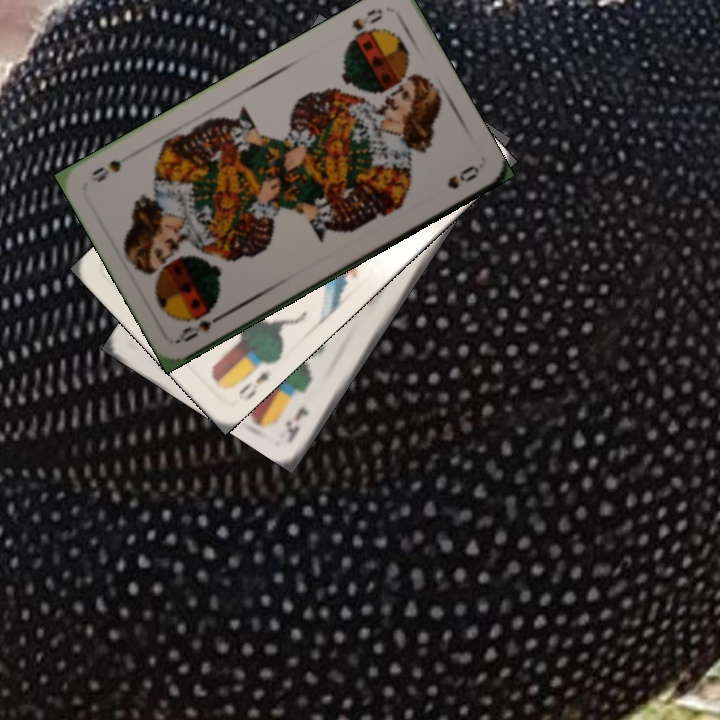EK: (282, 402, 312, 440)
EO: (233, 356, 274, 401)
SO: (174, 308, 230, 345), (344, 4, 386, 46)
